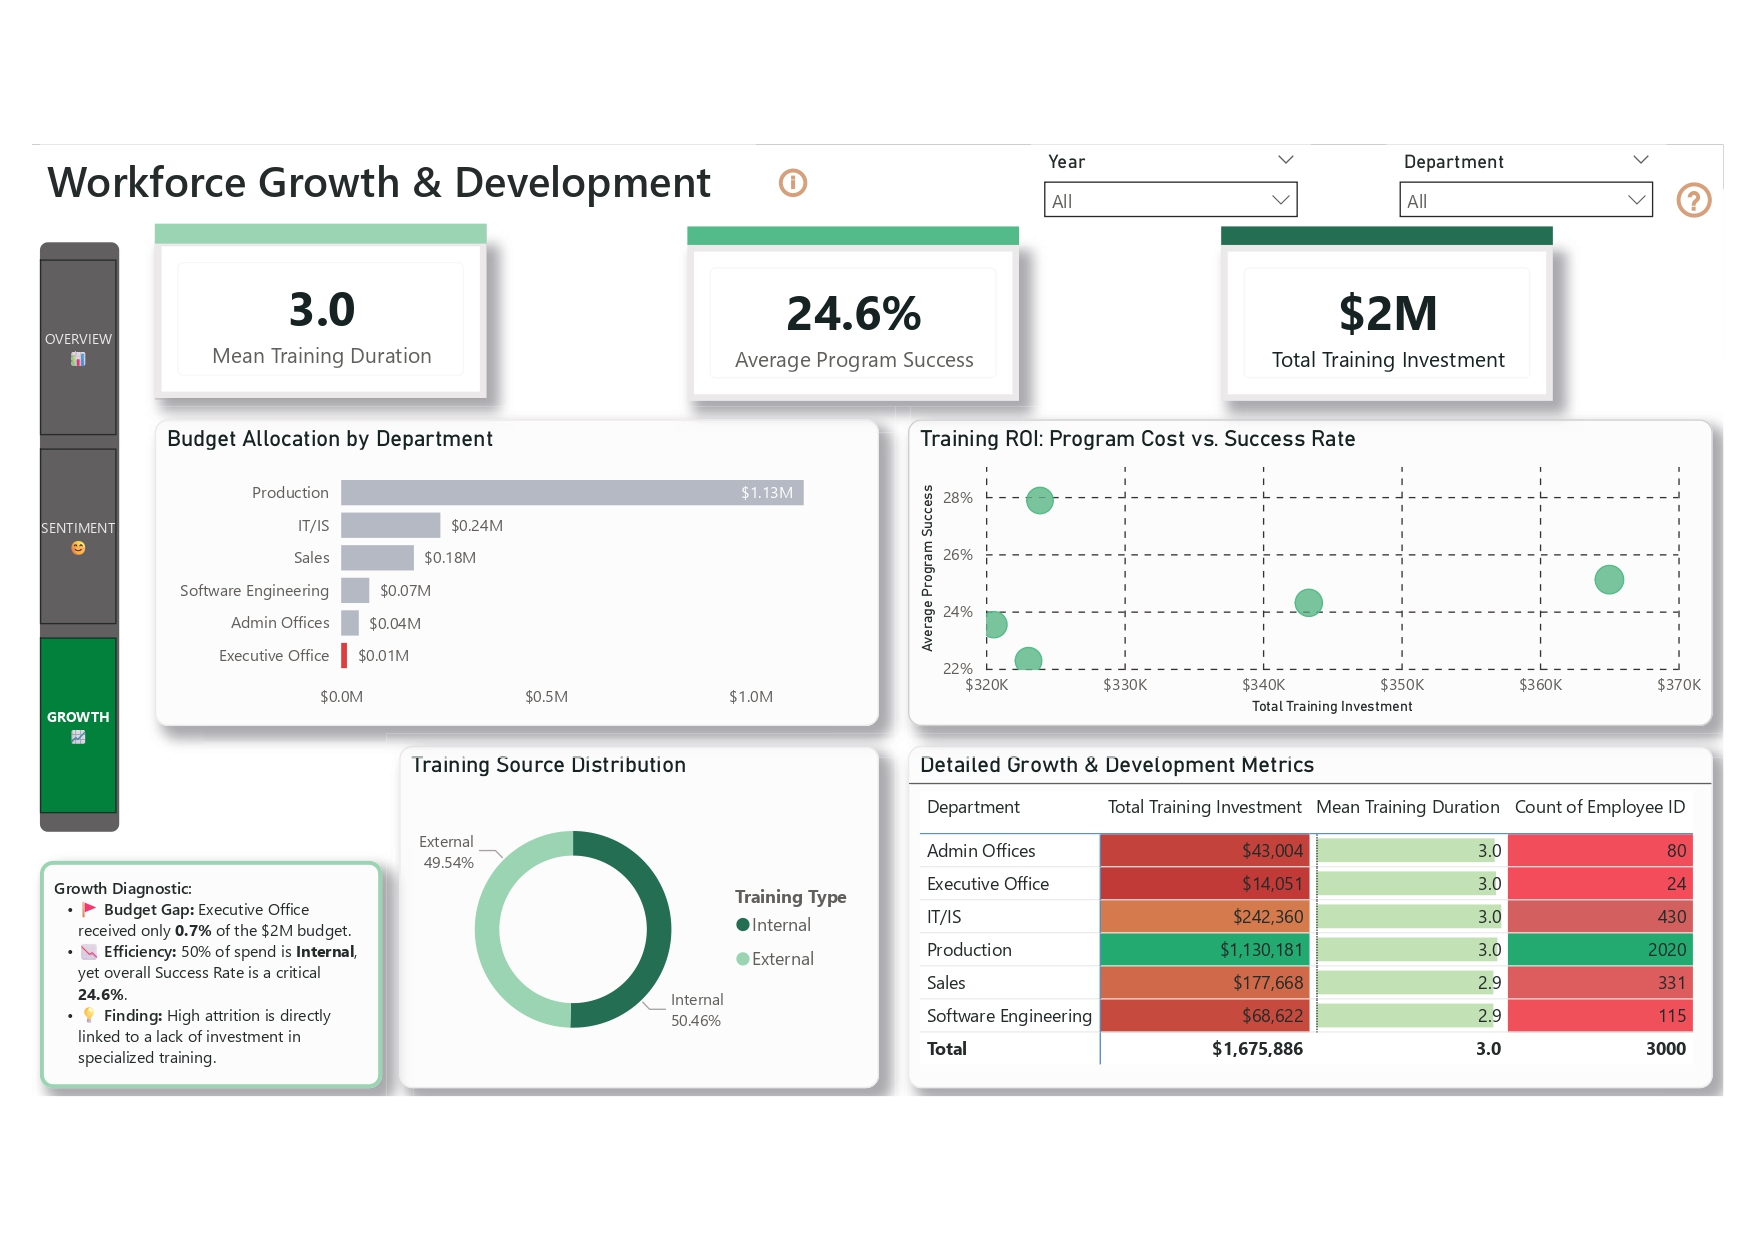

The page's visual inventory and layout, read from the dashboard file:
{"tool":"powerbi","page":{"name":"GROWTH 📈","canvas":[1280,720],"ordinal":2},"visuals":[{"type":"textbox","box":[5.7,0,542.4,60.5],"z":0},{"type":"cardVisual","fields":{"Data":["_Measures.Avg Training Duration"]},"box":[92.6,72.1,250.8,120.7],"z":0,"group":"g1"},{"type":"group","id":"g1","title":"Group 1","box":[92.6,60.5,251.3,132.3],"z":1000},{"type":"cardVisual","fields":{"Data":["_Measures.Success Rate"]},"box":[496.4,75.8,250.8,118.1],"z":1000,"group":"g2"},{"type":"group","id":"g2","title":"Group 2","box":[496.4,61.6,251.1,132.6],"z":2000},{"type":"cardVisual","fields":{"Data":["_Measures.Total Training Cost"]},"box":[900,75.8,250.8,118.1],"z":2000,"group":"g3"},{"type":"group","id":"g3","title":"Group 3","box":[900,61.6,251.1,132.6],"z":3000},{"type":"shape","box":[5.7,73.7,60,446],"z":4000},{"type":"pageNavigator","box":[5.7,86.9,58,419.5],"z":5000},{"type":"textbox","box":[5.7,542.4,258.9,172],"z":6000},{"type":"pivotTable","title":"Detailed Growth & Development Metrics","fields":{"Rows":["employee_data.Department"],"Values":["_Measures.Total Training Cost","_Measures.Avg Training Duration","CountNonNull(training_and_development_data.Employee ID)"]},"box":[663.3,455.4,608.5,258.9],"z":7000},{"type":"shape","box":[92.6,60.5,250.8,14.5],"z":8000,"group":"g1"},{"type":"donutChart","title":"Training Source Distribution","fields":{"Category":["training_and_development_data.Training Type"],"Y":["_Measures.Total Training Cost"]},"box":[277.8,455.4,362.8,258.9],"z":8000},{"type":"shape","box":[496.4,61.6,250.8,14.2],"z":8001,"group":"g2"},{"type":"shape","box":[900,61.6,250.8,14.2],"z":8002,"group":"g3"},{"type":"clusteredBarChart","title":"Budget Allocation by Department","fields":{"Y":["_Measures.Total Training Cost"],"Category":["employee_data.Department"]},"box":[92.6,207.9,548,232.4],"z":9000},{"type":"scatterChart","title":"Training ROI: Program Cost vs. Success Rate","fields":{"X":["_Measures.Total Training Cost"],"Y":["_Measures.Success Rate"],"Category":["training_and_development_data.Training Program Name"],"Size":["CountNonNull(training_and_development_data.Employee ID)"]},"box":[663.3,207.9,608.5,232.4],"z":10000},{"type":"slicer","fields":{"Values":["employee_data.Department Type"]},"box":[1024.8,0,211.8,61.2],"z":11000},{"type":"slicer","fields":{"Values":["Dim_Calendar.Year"]},"box":[756.3,0,211.8,61.2],"z":12000},{"type":"actionButton","box":[560.5,11.1,30,36.3],"z":13000},{"type":"actionButton","box":[1236.3,23.7,42.6,36.3],"z":13001}]}

Visuals, with their boxes on the page's 1280x720 design canvas (x1, y1, x2, y2). These are canvas units, not pixel positions in the 1755x1241 screenshot, which may show the page scaled, cropped or inside an application window:
textbox: {"x1": 6, "y1": 0, "x2": 548, "y2": 60}
cardVisual - _Measures.Avg Training Duration: {"x1": 93, "y1": 72, "x2": 343, "y2": 193}
"Group 1" group: {"x1": 93, "y1": 60, "x2": 344, "y2": 193}
cardVisual - _Measures.Success Rate: {"x1": 496, "y1": 76, "x2": 747, "y2": 194}
"Group 2" group: {"x1": 496, "y1": 62, "x2": 748, "y2": 194}
cardVisual - _Measures.Total Training Cost: {"x1": 900, "y1": 76, "x2": 1151, "y2": 194}
"Group 3" group: {"x1": 900, "y1": 62, "x2": 1151, "y2": 194}
shape: {"x1": 6, "y1": 74, "x2": 66, "y2": 520}
pageNavigator: {"x1": 6, "y1": 87, "x2": 64, "y2": 506}
textbox: {"x1": 6, "y1": 542, "x2": 265, "y2": 714}
"Detailed Growth & Development Metrics" pivotTable: {"x1": 663, "y1": 455, "x2": 1272, "y2": 714}
shape: {"x1": 93, "y1": 60, "x2": 343, "y2": 75}
"Training Source Distribution" donutChart: {"x1": 278, "y1": 455, "x2": 641, "y2": 714}
shape: {"x1": 496, "y1": 62, "x2": 747, "y2": 76}
shape: {"x1": 900, "y1": 62, "x2": 1151, "y2": 76}
"Budget Allocation by Department" clusteredBarChart: {"x1": 93, "y1": 208, "x2": 641, "y2": 440}
"Training ROI: Program Cost vs. Success Rate" scatterChart: {"x1": 663, "y1": 208, "x2": 1272, "y2": 440}
slicer - employee_data.Department Type: {"x1": 1025, "y1": 0, "x2": 1237, "y2": 61}
slicer - Dim_Calendar.Year: {"x1": 756, "y1": 0, "x2": 968, "y2": 61}
actionButton: {"x1": 560, "y1": 11, "x2": 590, "y2": 47}
actionButton: {"x1": 1236, "y1": 24, "x2": 1279, "y2": 60}
